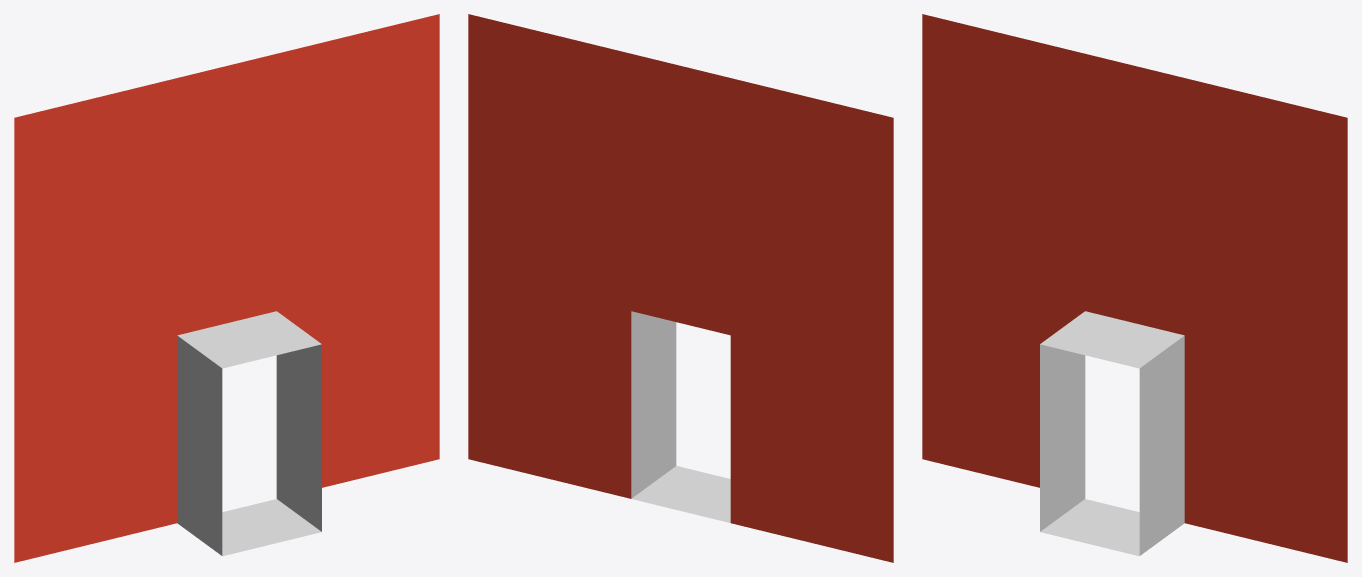
The model's file is wallGreekDoor.fbx.
The picture shows the model from 3 angles, left to right: view 1: azimuth 30°, elevation 25°; view 2: azimuth 150°, elevation 25°; view 3: azimuth 330°, elevation 25°; orthographic projection.
Visible parts, largest first — view 1: WallGreekDoor; view 2: WallGreekDoor; view 3: WallGreekDoor.
Part boxes in pixels (<box>): WallGreekDoor: <box>14,14,439,562</box>; WallGreekDoor: <box>468,14,893,562</box>; WallGreekDoor: <box>922,14,1347,562</box>.
Size of the model in its own units: 200 by 200 by 36.85.
